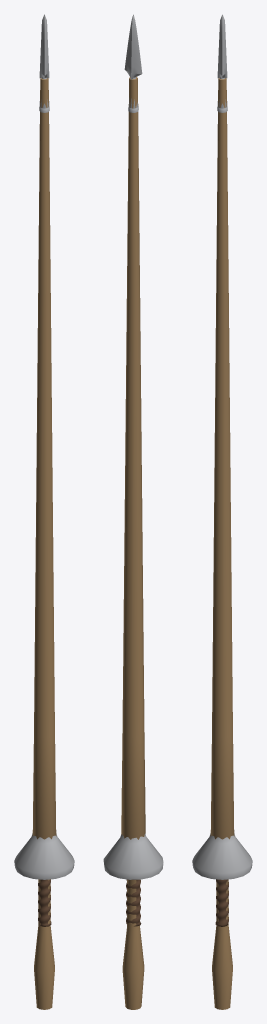
Rendered from lance.glb.
The picture shows the model from 3 angles, left to right: view 1: azimuth 90°, elevation 25°; view 2: azimuth 150°, elevation 25°; view 3: azimuth 270°, elevation 25°; orthographic projection.
Parts seen in each view (by area): view 1: lance; view 2: lance; view 3: lance.
Part boxes in pixels (x1,y1,x2,y2): lance: [14, 14, 74, 1009]; lance: [103, 14, 163, 1009]; lance: [192, 14, 252, 1009].
Size of the model in its own units: 0.41 by 7.43 by 0.41.
